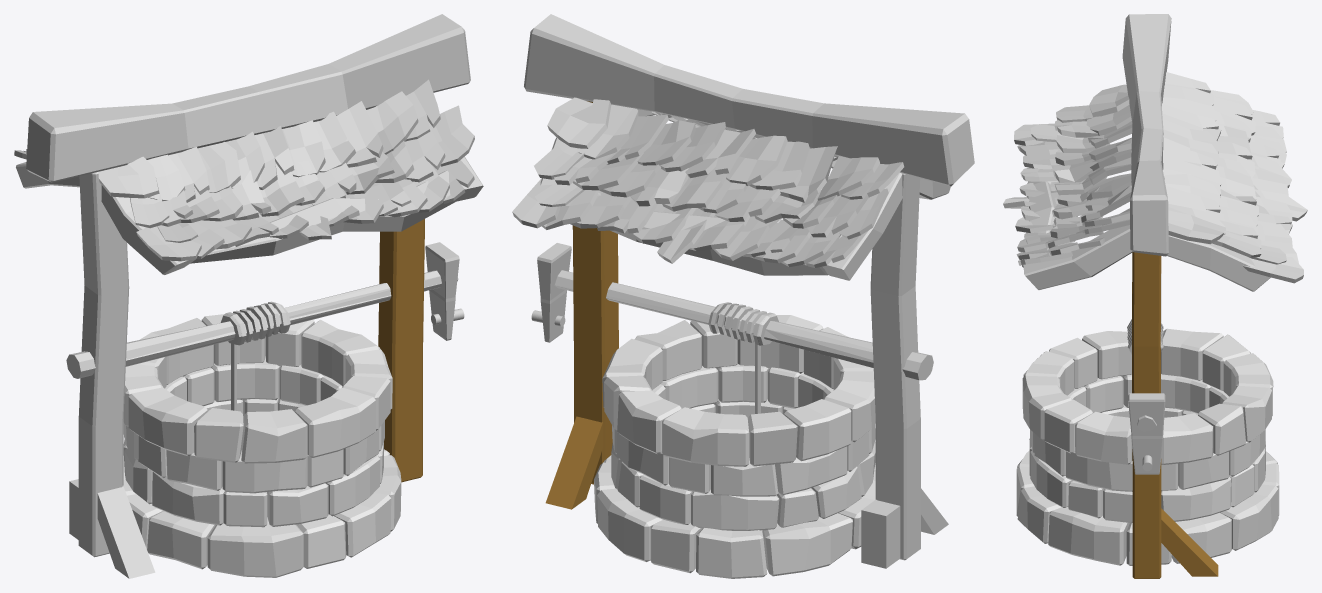
The model's file is LOW POLY WELL.fbx.
The picture shows the model from 3 angles, left to right: view 1: azimuth 30°, elevation 25°; view 2: azimuth 150°, elevation 25°; view 3: azimuth 270°, elevation 25°; orthographic projection. The views are drawn at different scales.
Parts seen in each view (by area): view 1: Plane.016, Cube.007, Cube.003, Cube.012, Cube, Cube.002, Cube.001, Cube.011, Cube.006, Cube.014, Cube.010, Cube.013 (+2 smaller); view 2: Cube.007, Cube.003, Cube.012, Cube, Cube.002, Cube.001, Cube.011, Cube.014, Cube.009, Cube.004, Cube.008, Plane.004 (+39 smaller); view 3: Cube.003, Plane.016, Cube, Cube.007, Cube.002, Cube.011, Cube.001, Cube.006, Cube.009, Cube.013, Cube.004, Plane.004 (+30 smaller).
Boxes of the visible parts, <box> form: Plane.016: <box>98,79,474,261</box>; Cube.007: <box>26,14,470,182</box>; Cube.003: <box>123,314,392,463</box>; Cube.012: <box>78,172,129,557</box>; Cube: <box>123,449,401,577</box>; Cube.002: <box>123,356,384,493</box>; Cube.001: <box>123,396,383,527</box>; Cube.011: <box>378,219,424,482</box>; Cube.006: <box>101,156,483,274</box>; Cube.014: <box>66,270,458,378</box>; Cube.010: <box>97,485,155,578</box>; Cube.013: <box>425,242,459,340</box>; Cube.007: <box>524,14,974,186</box>; Cube.003: <box>602,315,875,466</box>; Cube.012: <box>870,173,920,560</box>; Cube: <box>594,455,875,578</box>; Cube.002: <box>612,364,875,496</box>; Cube.001: <box>611,399,875,530</box>; Cube.011: <box>572,101,618,484</box>; Cube.014: <box>554,270,933,380</box>; Cube.009: <box>540,137,902,280</box>; Cube.004: <box>545,416,603,509</box>; Cube.008: <box>861,499,900,568</box>; Plane.004: <box>547,97,611,148</box>; Cube.003: <box>1022,328,1273,464</box>; Plane.016: <box>1003,84,1132,265</box>; Cube: <box>1016,450,1279,565</box>; Cube.007: <box>1122,14,1171,256</box>; Cube.002: <box>1030,374,1265,491</box>; Cube.011: <box>1132,252,1161,578</box>; Cube.001: <box>1029,404,1265,522</box>; Cube.006: <box>1022,181,1132,289</box>; Cube.009: <box>1167,185,1270,291</box>; Cube.013: <box>1128,393,1165,474</box>; Cube.004: <box>1161,508,1218,576</box>; Plane.004: <box>1168,210,1223,244</box>.
Size of the model in its own units: 2280 by 2288 by 1552.
